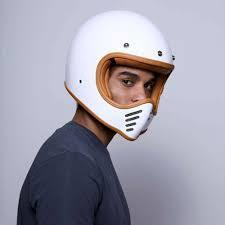helmet: (64, 9, 176, 142)
